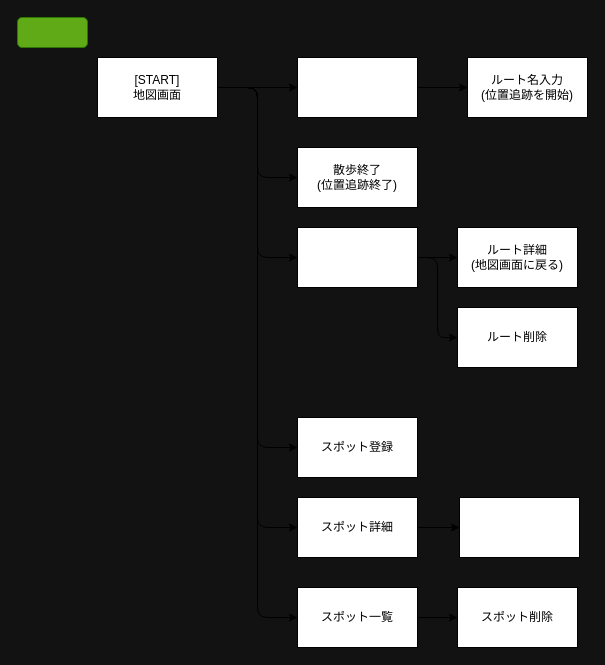
Image size: 605x665. Some labels were removed from this diagram. The centre of each missing label's shape, as x and y in pixels:
v1.0: (x=52, y=32)
スポット編集・削除: (x=519, y=527)
ルート一覧: (x=357, y=257)
散歩開始: (x=357, y=87)
